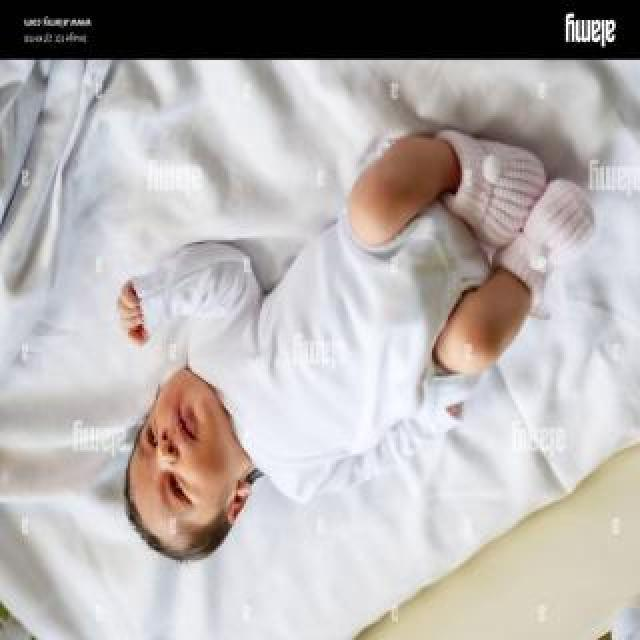baby: (118, 123, 594, 567)
